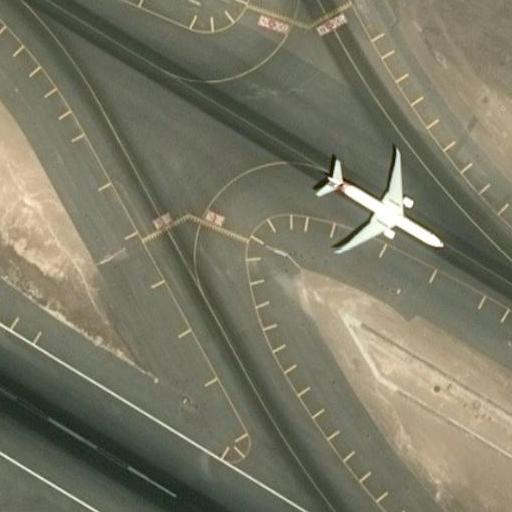Aircraft: (308, 144, 448, 268)
